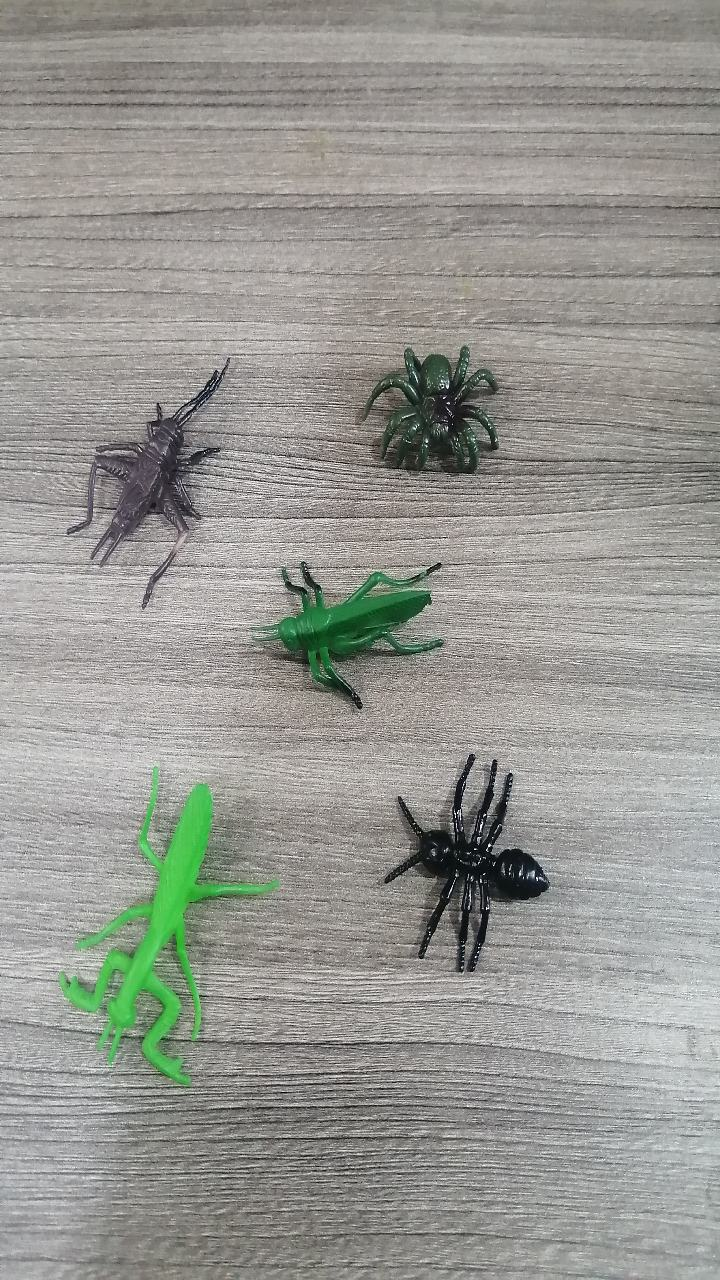intruso: (44, 752, 251, 1115), (351, 719, 577, 988), (223, 523, 466, 745), (43, 335, 224, 628), (340, 319, 543, 499)
